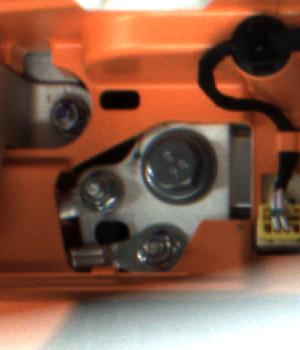nut_b: (137, 121, 223, 209)
